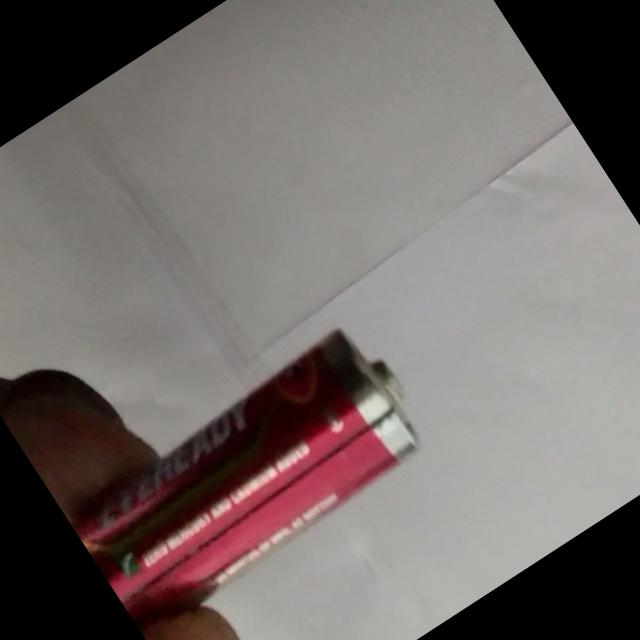battery: (75, 330, 418, 627)
crack: (123, 403, 398, 606)
